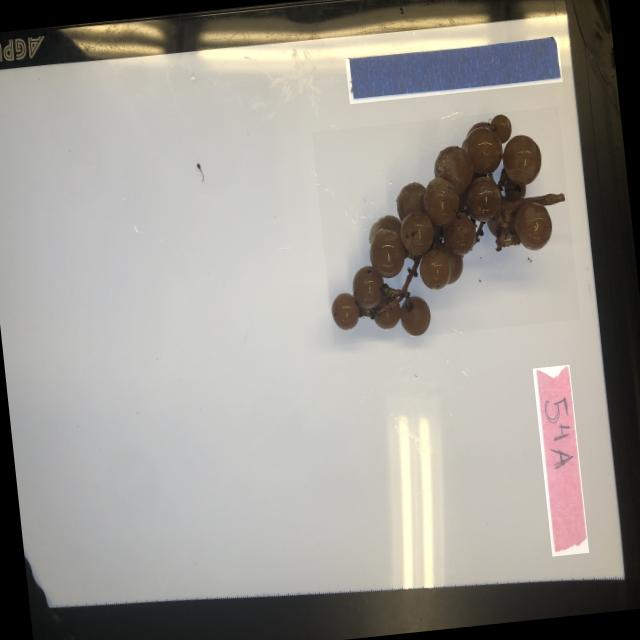grape_cluster: (310, 107, 580, 346)
index: (531, 364, 588, 556)
measure_label: (343, 37, 561, 104)
